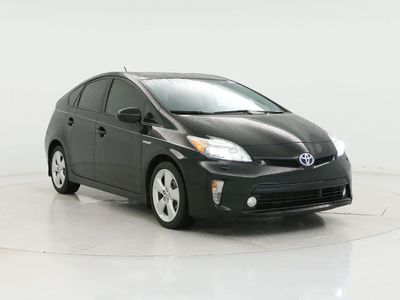Toyota Prius: (43, 69, 354, 231)
